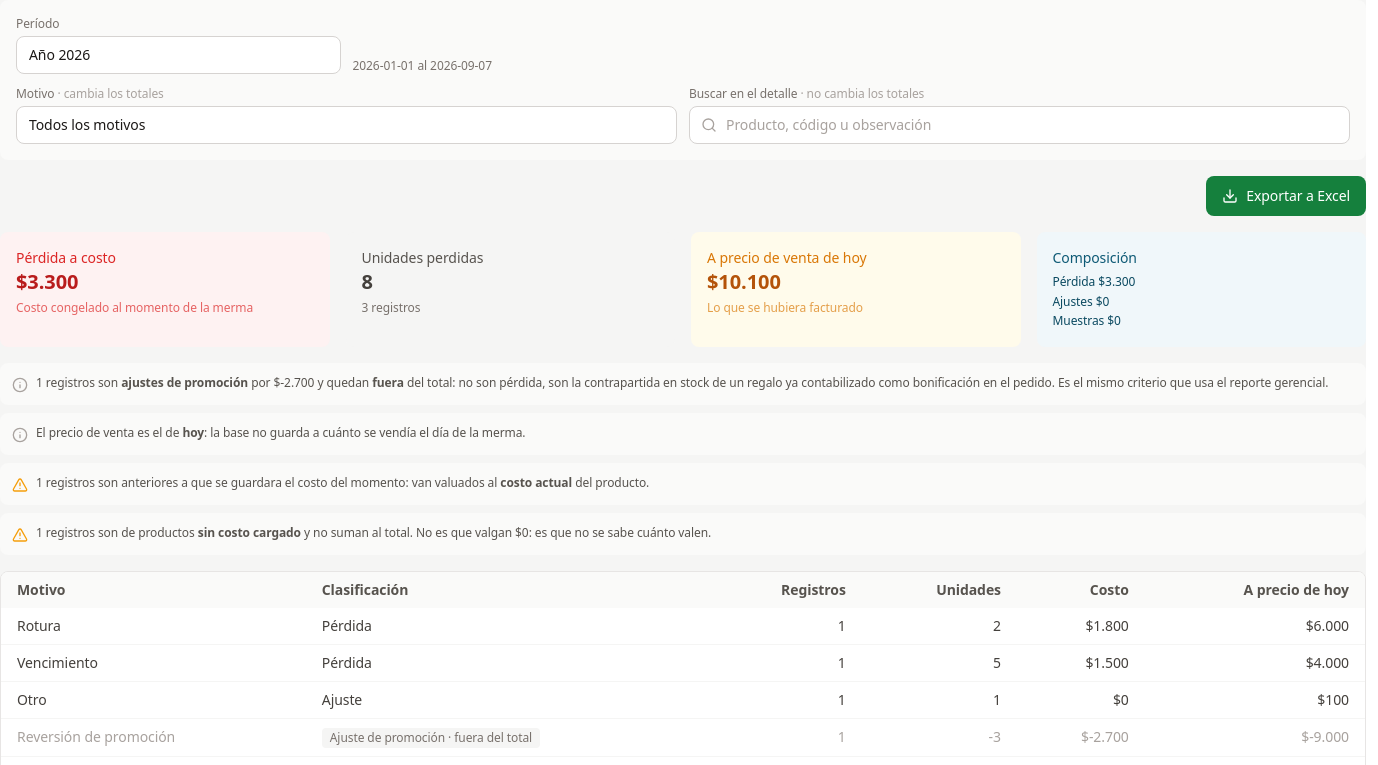
Scenario: ReporteMermas › el filtro de fecha va al servidor › período personalizado (#1205) › elegir "Personalizado…" muestra las fechas aunque el rango sea el de un preset
This screenshot has width=1378, height=765.
Expected: the field labelled "Desde" is not shown
Select "Personalizado…" in the dropdown labelled "Período": (178,55) [16,36,340,74]
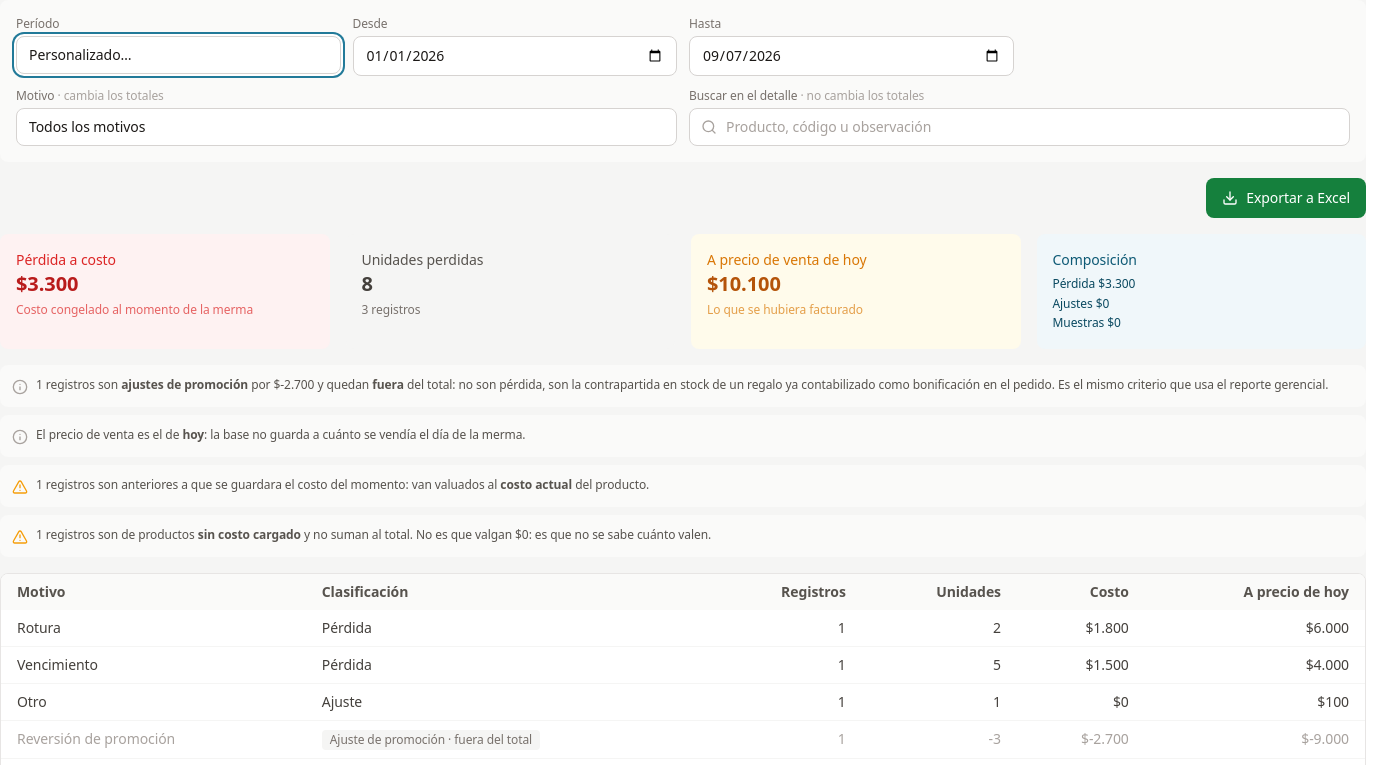
Expected: the date field labelled "Desde" holds "2026-01-01", [352,36,677,76]
Expected: the date field labelled "Hasta" holds "2026-09-07", [689,36,1014,76]
